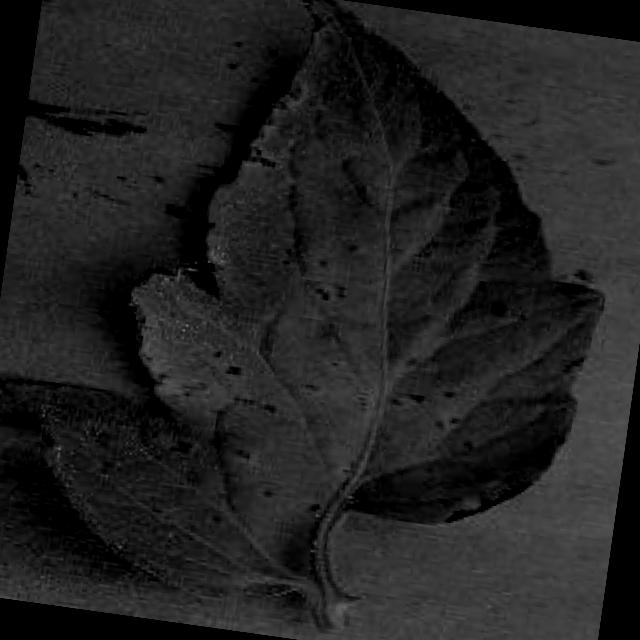bacterial spot: (8, 0, 609, 635)
